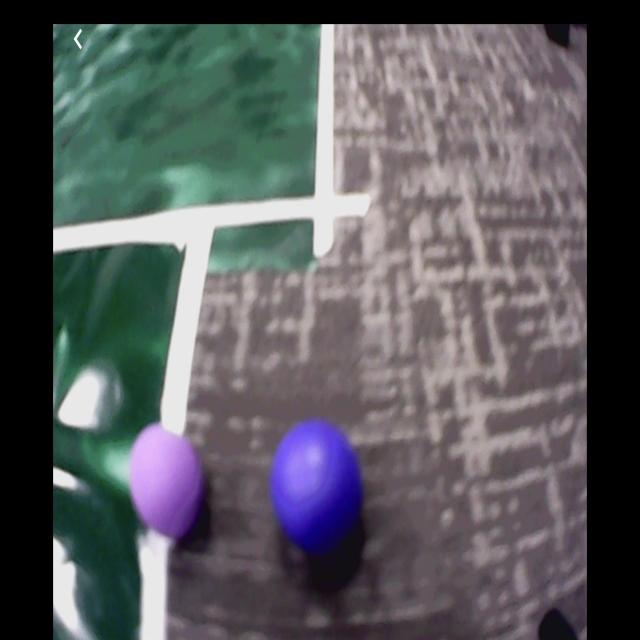ball: (272, 420, 363, 552), (132, 426, 202, 537)
